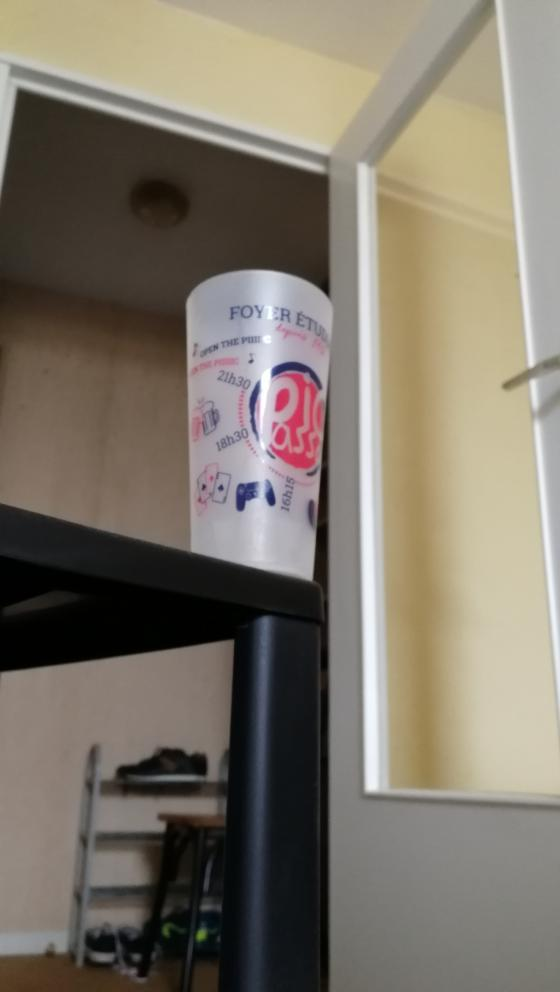ecocup: (185, 269, 334, 582)
